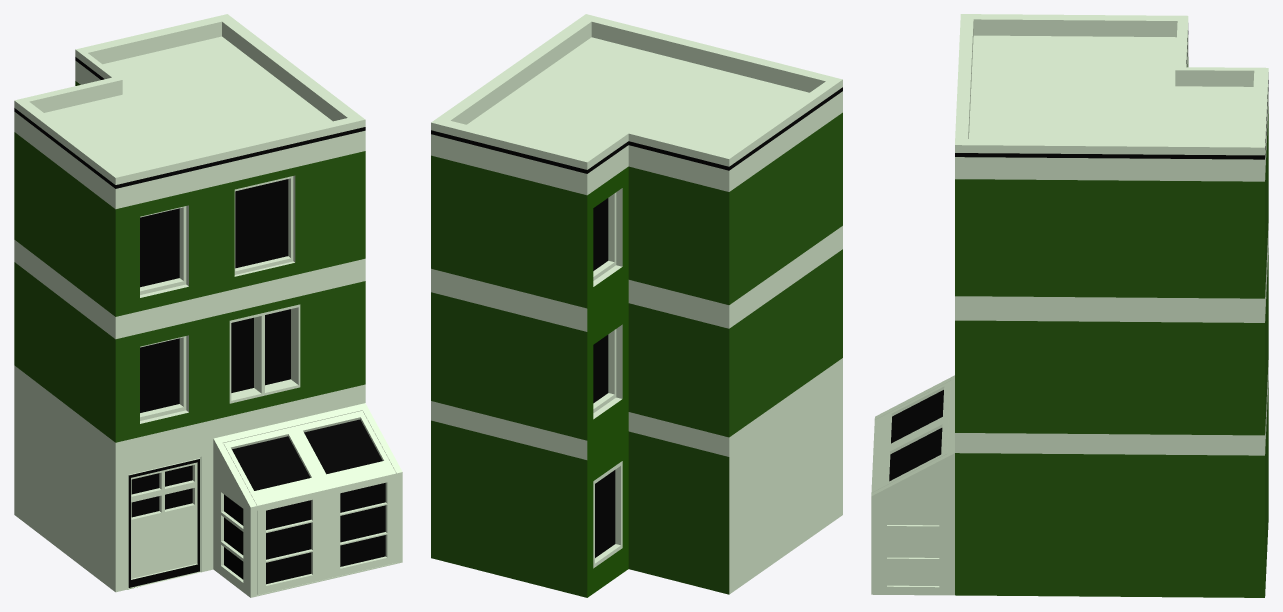
Rendered from mid3.glb.
3 views of the same model, side by side, from view 1: azimuth 30°, elevation 25°; view 2: azimuth 150°, elevation 25°; view 3: azimuth 270°, elevation 25° (orthographic). The views are drawn at different scales.
Parts seen in each view (by area): view 1: Commercial 10; view 2: Commercial 10; view 3: Commercial 10.
Part boxes in pixels (x1,y1,x2,y2): Commercial 10: (14,14,402,597); Commercial 10: (431,14,842,597); Commercial 10: (871,14,1268,597).
Bounding box in the file's own units: 7.13 × 11.21 × 8.97.
1 material, 1 textured.
